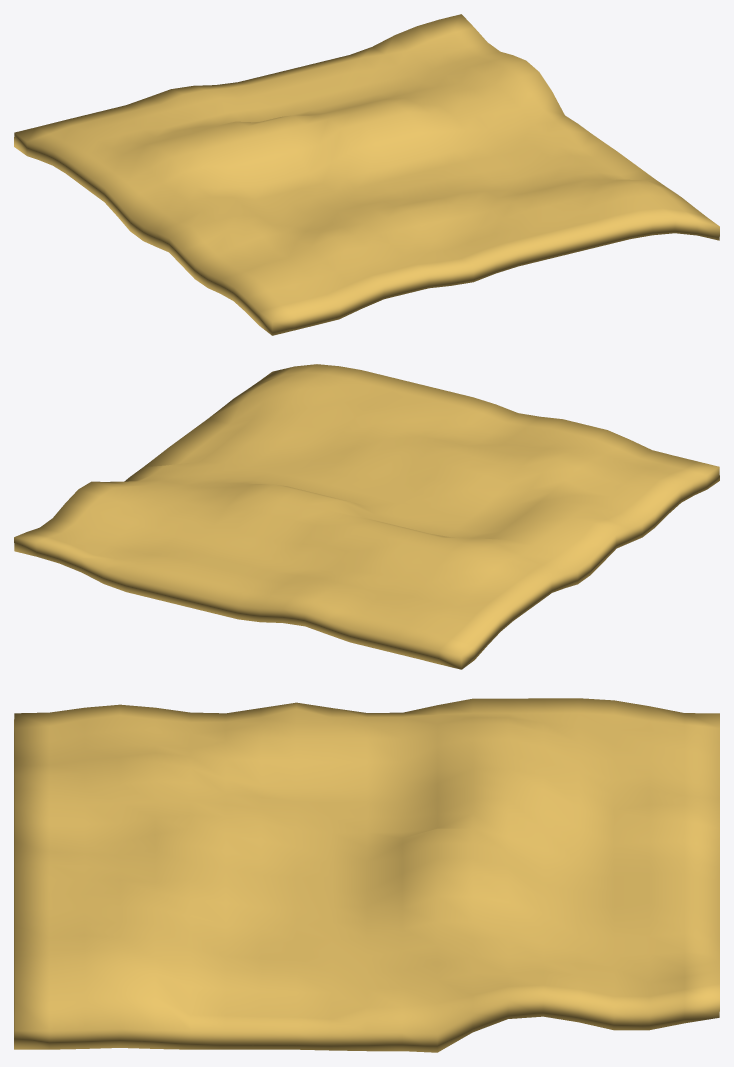
3 renders of one model, top to bottom at view 1: azimuth 30°, elevation 25°; view 2: azimuth 150°, elevation 25°; view 3: azimuth 270°, elevation 25°, orthographic. The views are drawn at different scales.
Visible parts, largest first — view 1: 0_0_sand; view 2: 0_0_sand; view 3: 0_0_sand.
Boxes of the visible parts, bbox=[...] form: 0_0_sand: bbox=[14, 14, 719, 335]; 0_0_sand: bbox=[14, 364, 719, 669]; 0_0_sand: bbox=[14, 698, 719, 1052].
Size of the model in its own units: 100 by 11.81 by 100.
